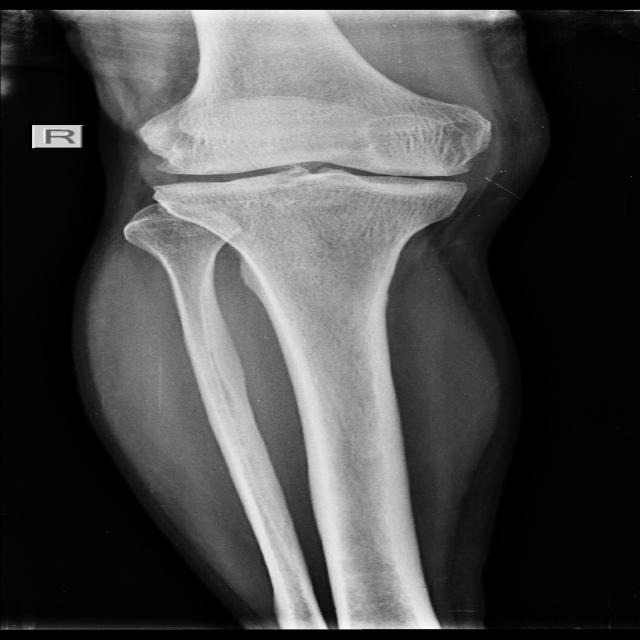normal: (140, 107, 507, 217)
